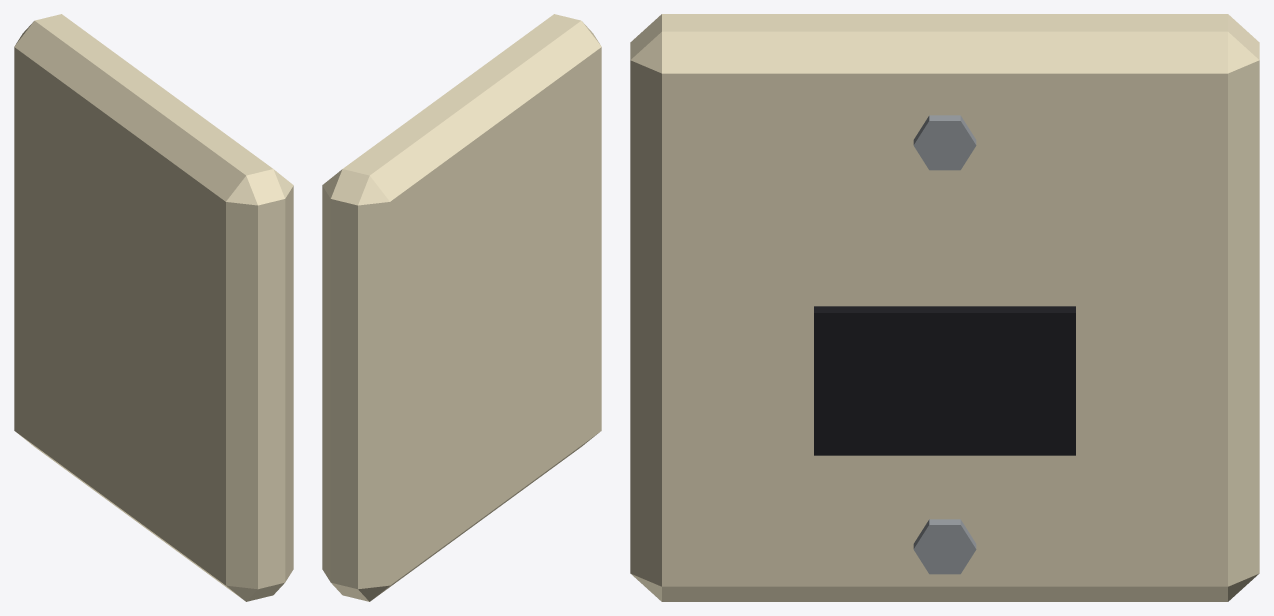
Rendered from install.socket-face.glb.
3 renders of one model, left to right at view 1: azimuth 30°, elevation 25°; view 2: azimuth 150°, elevation 25°; view 3: azimuth 270°, elevation 25°, orthographic. The views are drawn at different scales.
Visible parts, largest first — view 1: face; view 2: face; view 3: face, slot, screw0.04, screw-0.045.
Part boxes in pixels (x1=…): face: x1=14, y1=14, x2=293, y2=601; face: x1=322, y1=14, x2=601, y2=601; face: x1=630, y1=14, x2=1259, y2=601; slot: x1=814, y1=306, x2=1075, y2=455; screw0.04: x1=913, y1=115, x2=976, y2=170; screw-0.045: x1=913, y1=519, x2=976, y2=574.
Bounding box in the file's own units: 0.023 × 0.12 × 0.12.
